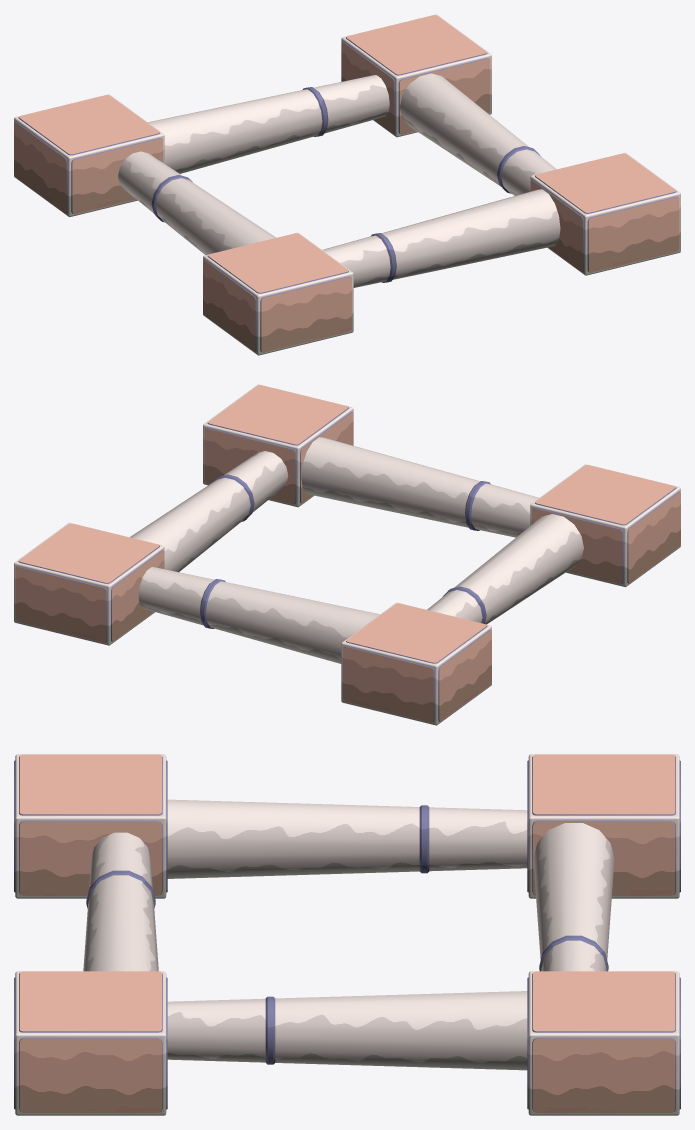
Rendered from R4C_ROD_FRAME.glb.
3 views of the same model, one above another, from view 1: azimuth 30°, elevation 25°; view 2: azimuth 150°, elevation 25°; view 3: azimuth 270°, elevation 25° (orthographic). The views are drawn at different scales.
Parts seen in each view (by area): view 1: R4C_ROD_FRAME; view 2: R4C_ROD_FRAME; view 3: R4C_ROD_FRAME.
Part boxes in pixels (x1,y1,x2,y2): R4C_ROD_FRAME: (14,14,680,355); R4C_ROD_FRAME: (14,384,680,725); R4C_ROD_FRAME: (14,754,680,1115).
Size of the model in its own units: 1.62 by 0.226 by 1.62.
3 materials, 3 textured.
